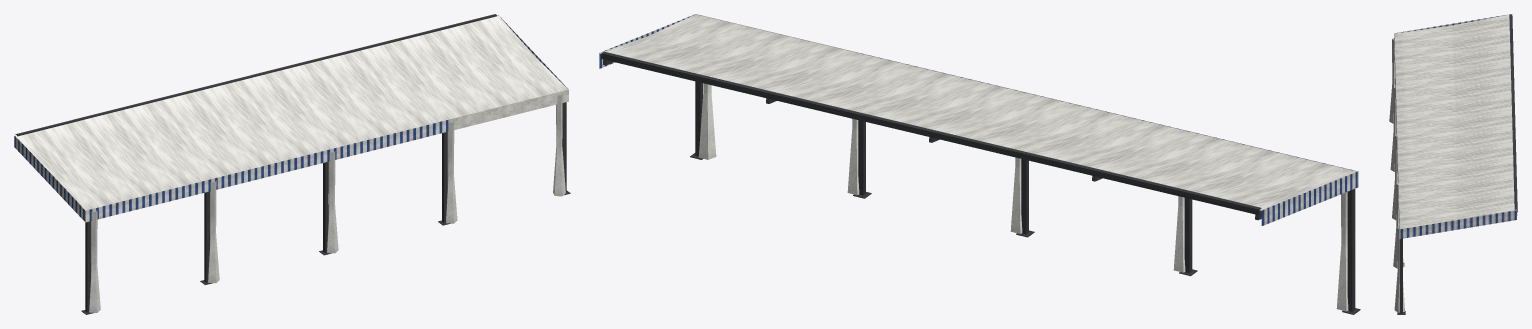
File: SM_Molo_DehorsRighe_LOD1.fbx
3 views of the same model, side by side, from view 1: azimuth 30°, elevation 25°; view 2: azimuth 150°, elevation 25°; view 3: azimuth 270°, elevation 25° (orthographic). The views are drawn at different scales.
Parts seen in each view (by area): view 1: SM_Molo_DehorsRighe_LOD1; view 2: SM_Molo_DehorsRighe_LOD1; view 3: SM_Molo_DehorsRighe_LOD1.
Part boxes in pixels (left/top/right/bottom): SM_Molo_DehorsRighe_LOD1: left=14, top=14, right=570, bottom=314; SM_Molo_DehorsRighe_LOD1: left=599, top=14, right=1360, bottom=314; SM_Molo_DehorsRighe_LOD1: left=1389, top=14, right=1517, bottom=314.
Bounding box in the file's own units: 1222 × 337 × 304.
Materials: 2 (2 with a texture image).
